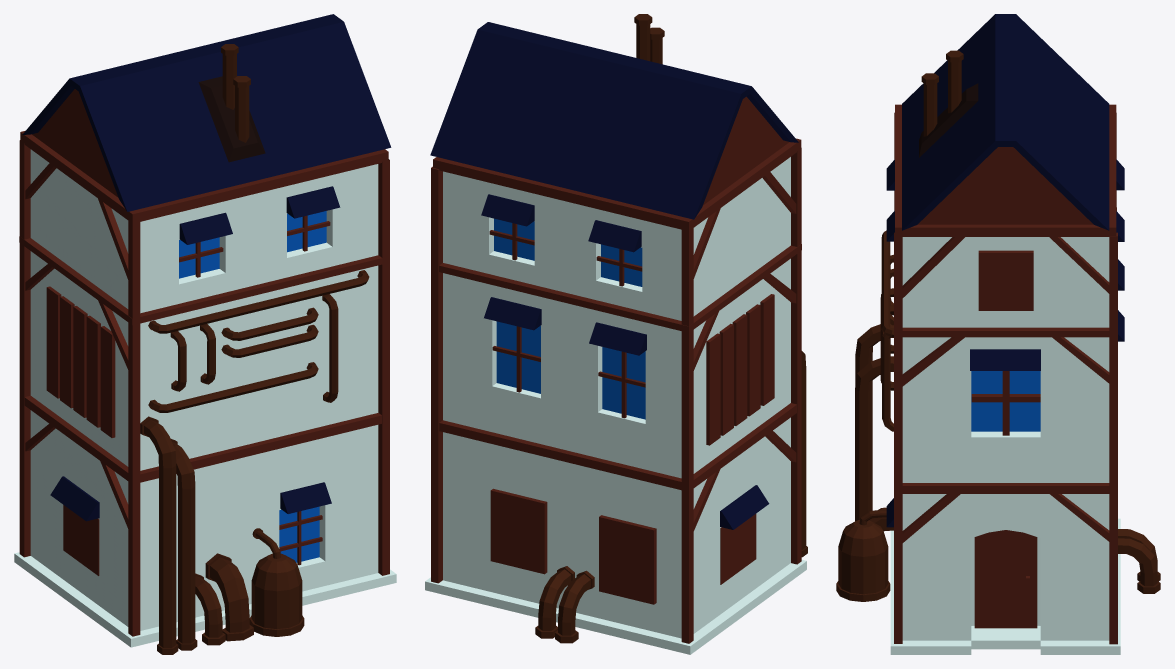
Rendered from house_with_tank_3.obj.
The picture shows the model from 3 angles, left to right: view 1: azimuth 30°, elevation 25°; view 2: azimuth 150°, elevation 25°; view 3: azimuth 270°, elevation 25°; orthographic projection.
Visible parts, largest first — view 1: House, pipes; view 2: House, pipes; view 3: House, pipes.
Boxes of the visible parts, box(x1,y1,x2,y2) form: House: box(14, 14, 396, 647); pipes: box(140, 44, 369, 654); House: box(425, 22, 806, 654); pipes: box(535, 14, 807, 643); House: box(886, 14, 1124, 654); pipes: box(836, 50, 1160, 601).
Bounding box in the file's own units: 8.87 × 17.08 × 9.36.
